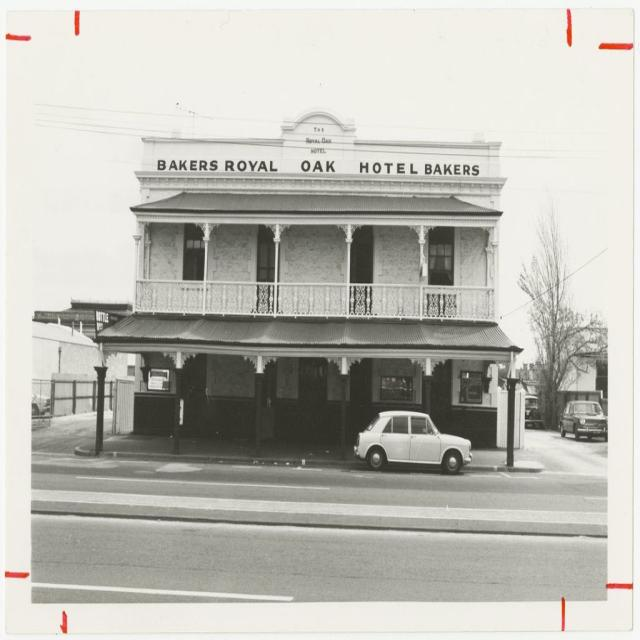car: (352, 409, 472, 476)
